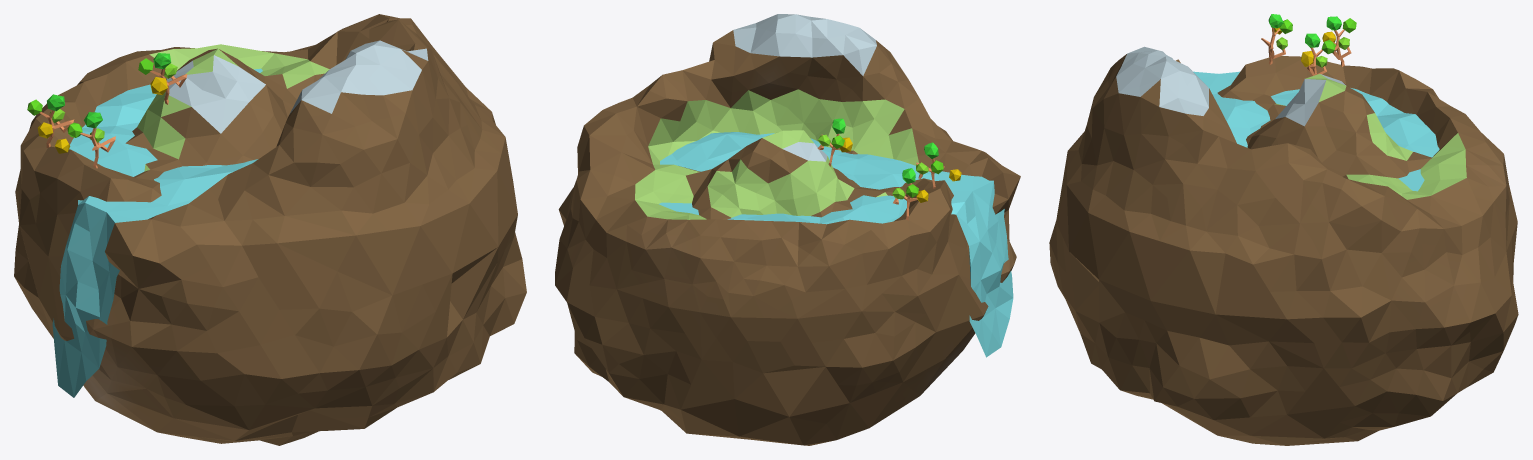
File: world.glb
The picture shows the model from 3 angles, left to right: view 1: azimuth 30°, elevation 25°; view 2: azimuth 150°, elevation 25°; view 3: azimuth 270°, elevation 25°; orthographic projection. The views are drawn at different scales.
Parts seen in each view (by area): view 1: Icosphere, Plane; view 2: Icosphere, Plane; view 3: Icosphere, Plane.
Boxes of the visible parts, x1,y1,x2,y2 form: Icosphere: [14, 14, 526, 445]; Plane: [52, 68, 262, 397]; Icosphere: [555, 14, 1020, 445]; Plane: [659, 132, 1013, 357]; Icosphere: [1049, 46, 1518, 445]; Plane: [1193, 71, 1439, 191].
Size of the model in its own units: 12.55 by 11.21 by 12.42.
